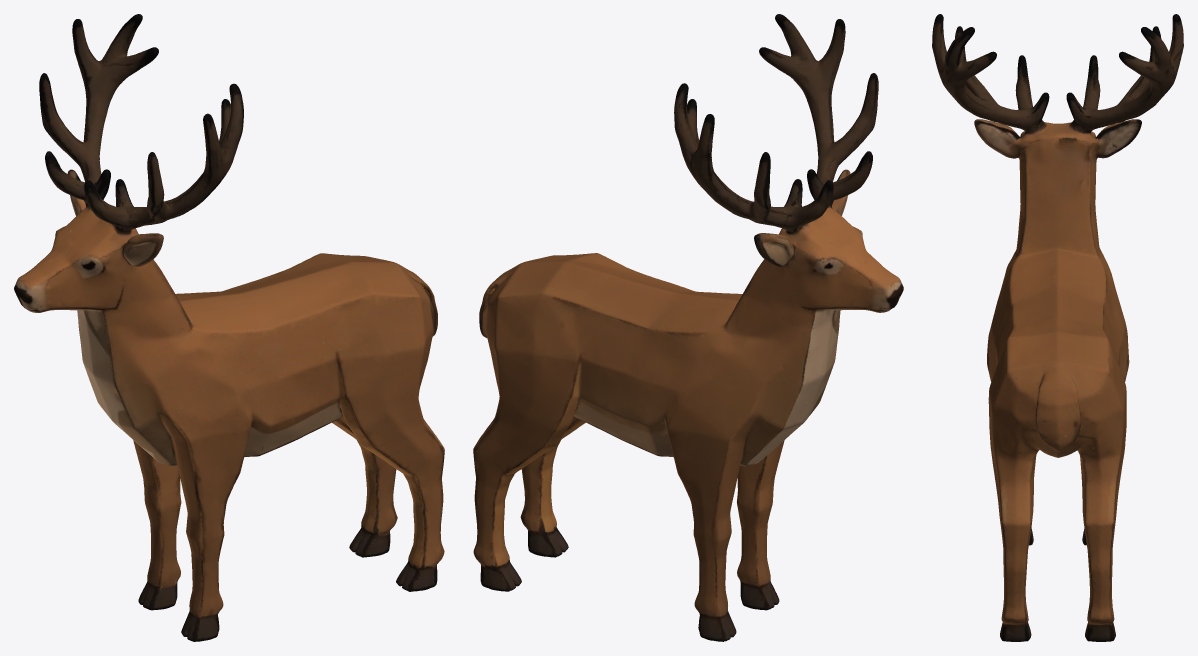
The model's file is deer.glb.
3 renders of one model, left to right at view 1: azimuth 30°, elevation 25°; view 2: azimuth 150°, elevation 25°; view 3: azimuth 270°, elevation 25°, orthographic. The views are drawn at different scales.
Visible parts, largest first — view 1: world; view 2: world; view 3: world.
Part boxes in pixels (bbox=[...]): world: bbox=[14, 14, 444, 641]; world: bbox=[473, 14, 903, 641]; world: bbox=[932, 14, 1183, 641].
Bounding box in the file's own units: 0.7672 × 1 × 0.4413.
1 material, 1 textured.
